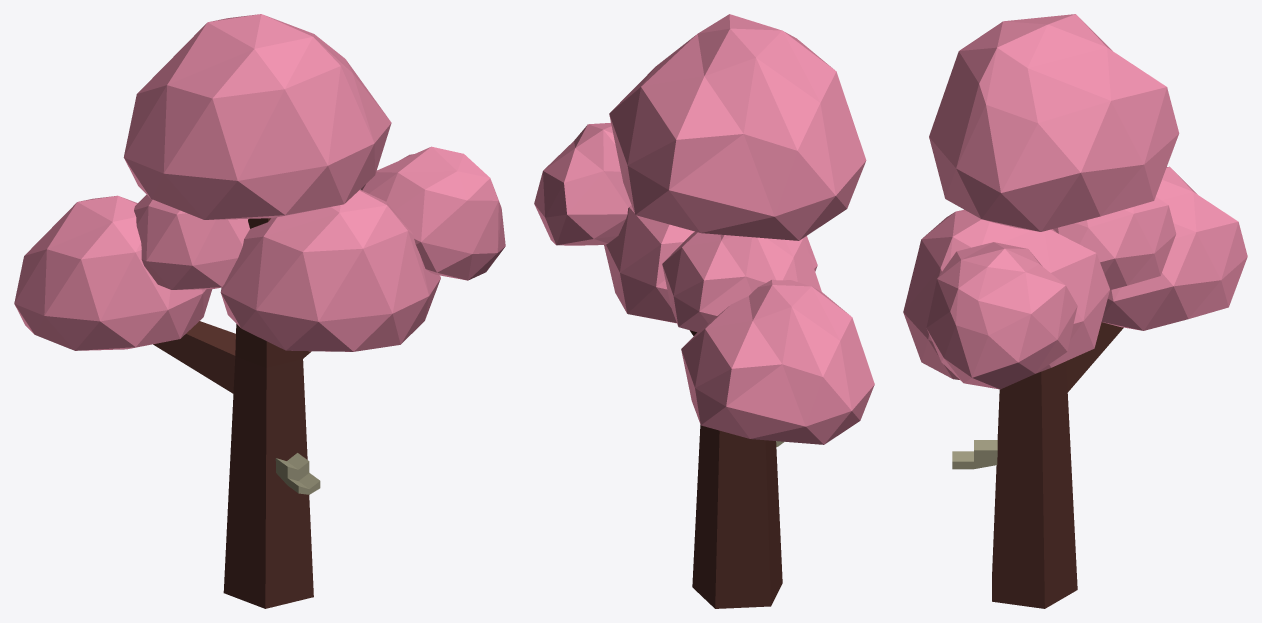
Rendered from Choco Tree.fbx.
3 renders of one model, left to right at view 1: azimuth 30°, elevation 25°; view 2: azimuth 150°, elevation 25°; view 3: azimuth 270°, elevation 25°, orthographic.
Parts seen in each view (by area): view 1: Chocolate Tree; view 2: Chocolate Tree; view 3: Chocolate Tree.
Part boxes in pixels (left/top/right/bottom): Chocolate Tree: left=14, top=14, right=505, bottom=608; Chocolate Tree: left=534, top=14, right=874, bottom=608; Chocolate Tree: left=903, top=14, right=1247, bottom=608.
Bounding box in the file's own units: 433 × 596 × 329.
